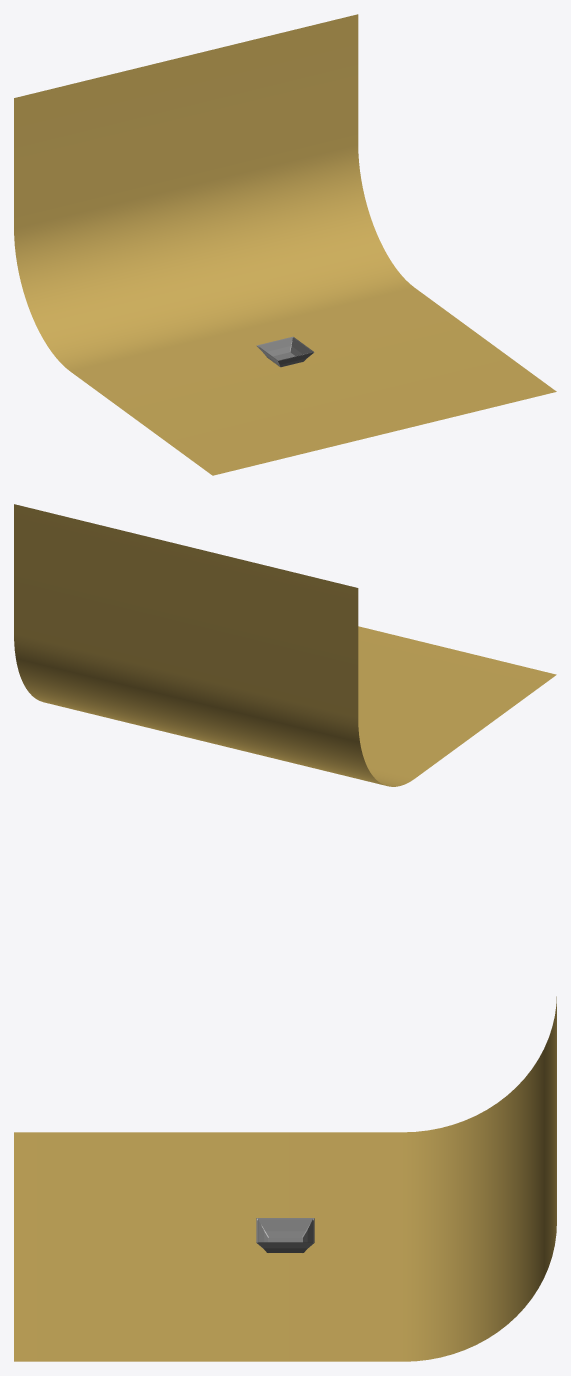
The model's file is sheet_metal_separated.fbx.
3 renders of one model, top to bottom at view 1: azimuth 30°, elevation 25°; view 2: azimuth 150°, elevation 25°; view 3: azimuth 270°, elevation 25°, orthographic. The views are drawn at different scales.
Visible parts, largest first — view 1: Plane; view 2: Plane; view 3: Plane, sheet_metal.
Boxes of the visible parts, x1,y1,x2,y2 form: Plane: (14, 14, 556, 475); Plane: (14, 504, 556, 786); Plane: (14, 996, 556, 1361); sheet_metal: (256, 1218, 314, 1248).
Size of the model in its own units: 314 by 202 by 314.
